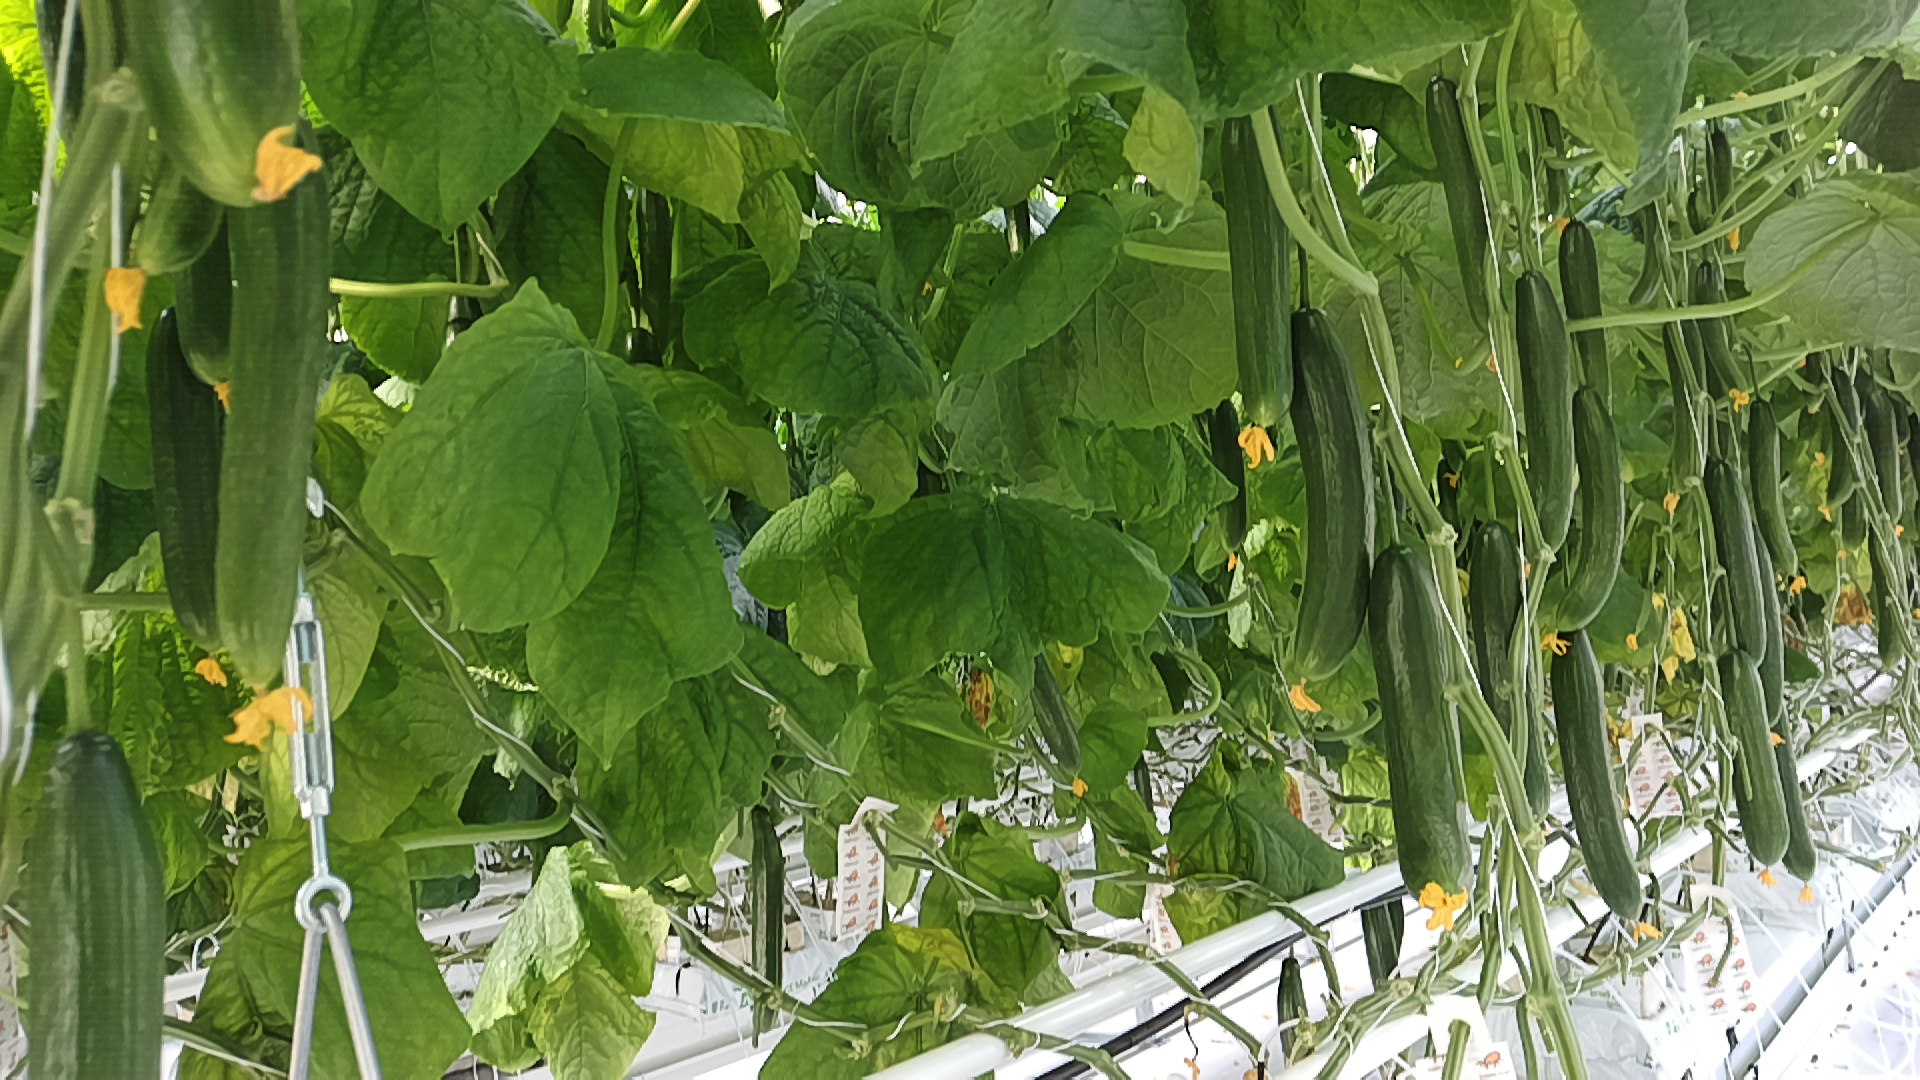gurka: (1356, 538, 1487, 920), (1273, 297, 1382, 695), (1542, 613, 1668, 932), (149, 297, 249, 666), (1213, 79, 1309, 436), (1418, 70, 1522, 357), (1501, 262, 1586, 571), (1702, 638, 1804, 868), (1545, 378, 1630, 640), (1700, 450, 1770, 654)
